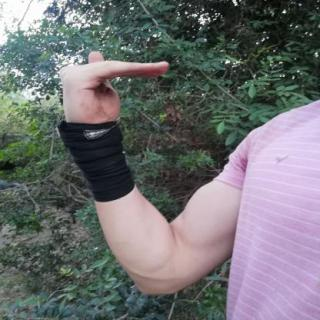KHAA: (41, 44, 181, 140)
